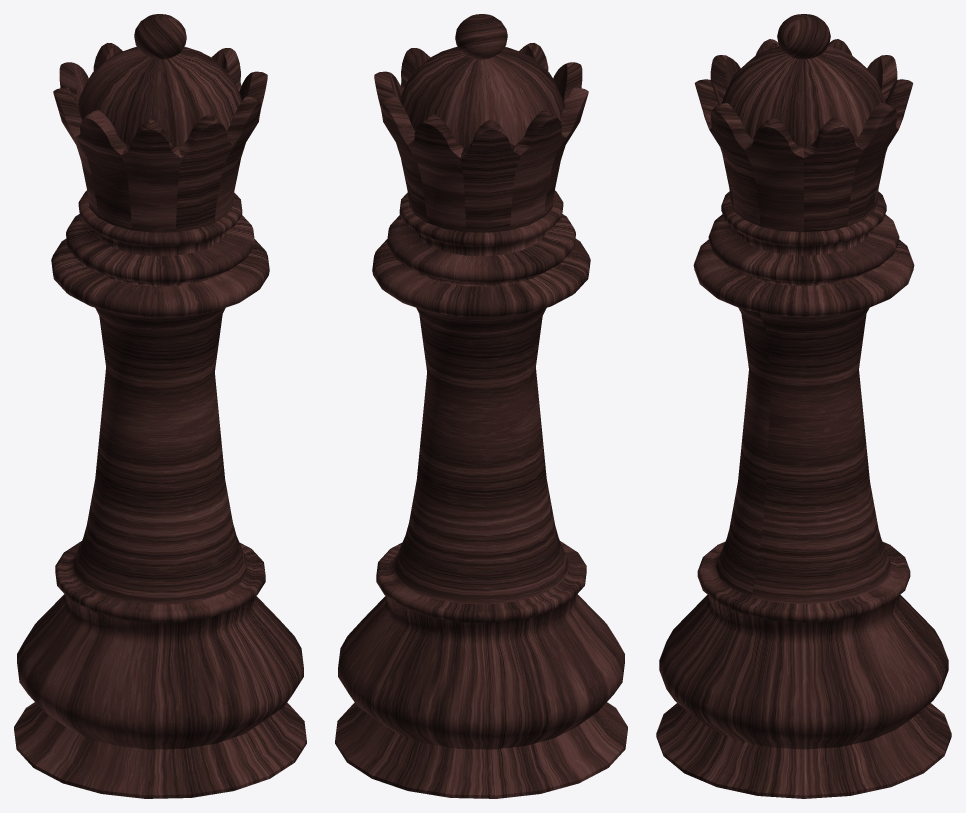
File: Black_Queen.dae
3 renders of one model, left to right at view 1: azimuth 30°, elevation 25°; view 2: azimuth 150°, elevation 25°; view 3: azimuth 270°, elevation 25°, orthographic.
Parts seen in each view (by area): view 1: Queen; view 2: Queen; view 3: Queen.
Boxes of the visible parts, <box> form: Queen: <box>14,14,306,798</box>; Queen: <box>335,14,627,798</box>; Queen: <box>656,14,951,798</box>.
Bounding box in the file's own units: 1.83 × 4.94 × 1.84.
1 material, 1 textured.
